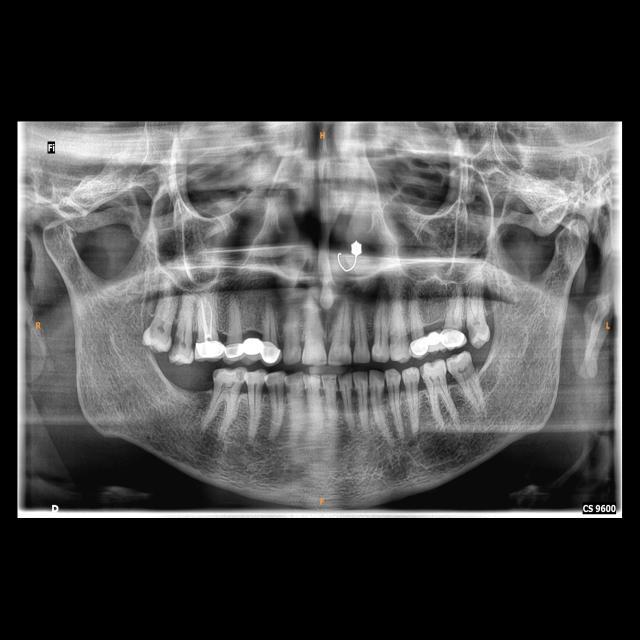dentin-curugu: (199, 299, 215, 341), (170, 334, 180, 362)
kaplama: (196, 341, 226, 362), (442, 326, 469, 349), (262, 339, 282, 365), (411, 336, 430, 358), (225, 343, 246, 360)
kopru: (234, 330, 270, 359), (420, 328, 453, 353)
